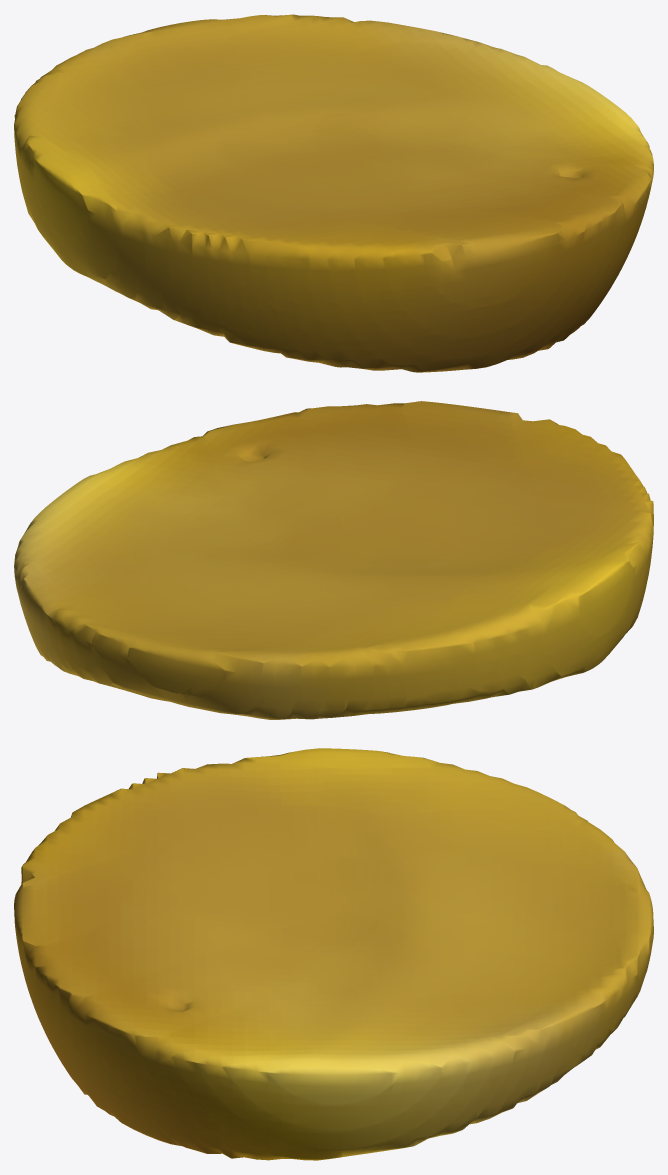
The model's file is bottom bun.fbx.
The picture shows the model from 3 angles, top to bottom: view 1: azimuth 30°, elevation 25°; view 2: azimuth 150°, elevation 25°; view 3: azimuth 270°, elevation 25°; orthographic projection.
Parts seen in each view (by area): view 1: Layer_1; view 2: Layer_1; view 3: Layer_1.
Boxes of the visible parts, box(x1,y1,x2,y2) form: Layer_1: box(14, 14, 653, 372); Layer_1: box(14, 401, 653, 719); Layer_1: box(14, 748, 653, 1160).
Size of the model in its own units: 0.3165 by 0.3181 by 0.0956.
